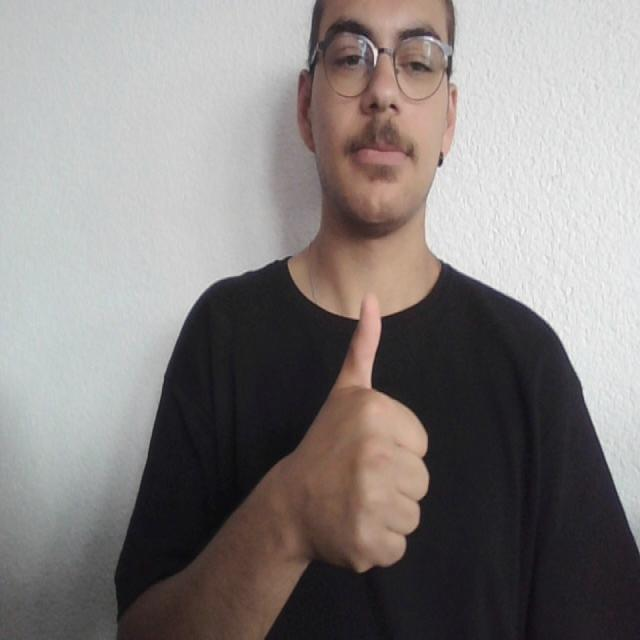Tamam: (275, 290, 435, 591)
